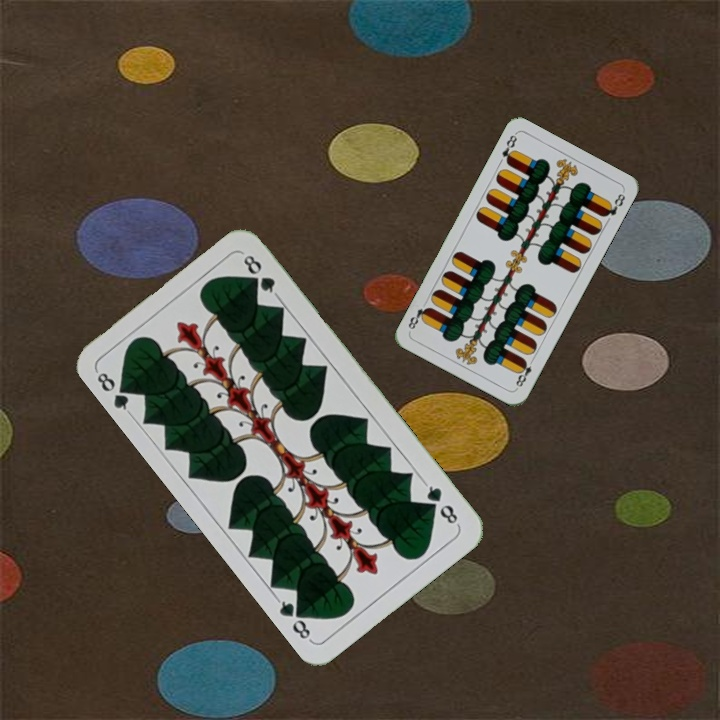E8: (512, 354, 537, 391), (497, 130, 520, 167)
G8: (92, 367, 136, 417), (420, 478, 462, 528)
